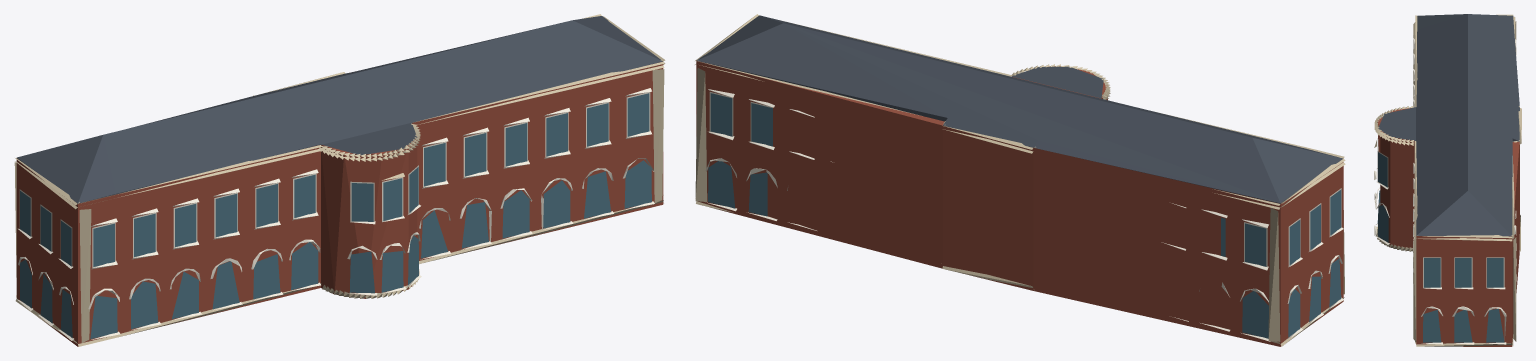
The model's file is groote-museum.lod1.glb.
3 renders of one model, left to right at view 1: azimuth 30°, elevation 25°; view 2: azimuth 150°, elevation 25°; view 3: azimuth 270°, elevation 25°, orthographic. The views are drawn at different scales.
Parts seen in each view (by area): view 1: groote-museum; view 2: groote-museum; view 3: groote-museum.
Boxes of the visible parts, x1,y1,x2,y2 form: groote-museum: [14, 14, 665, 346]; groote-museum: [695, 14, 1345, 346]; groote-museum: [1374, 14, 1521, 346].
Bounding box in the file's own units: 72.79 × 20.4 × 20.36.
